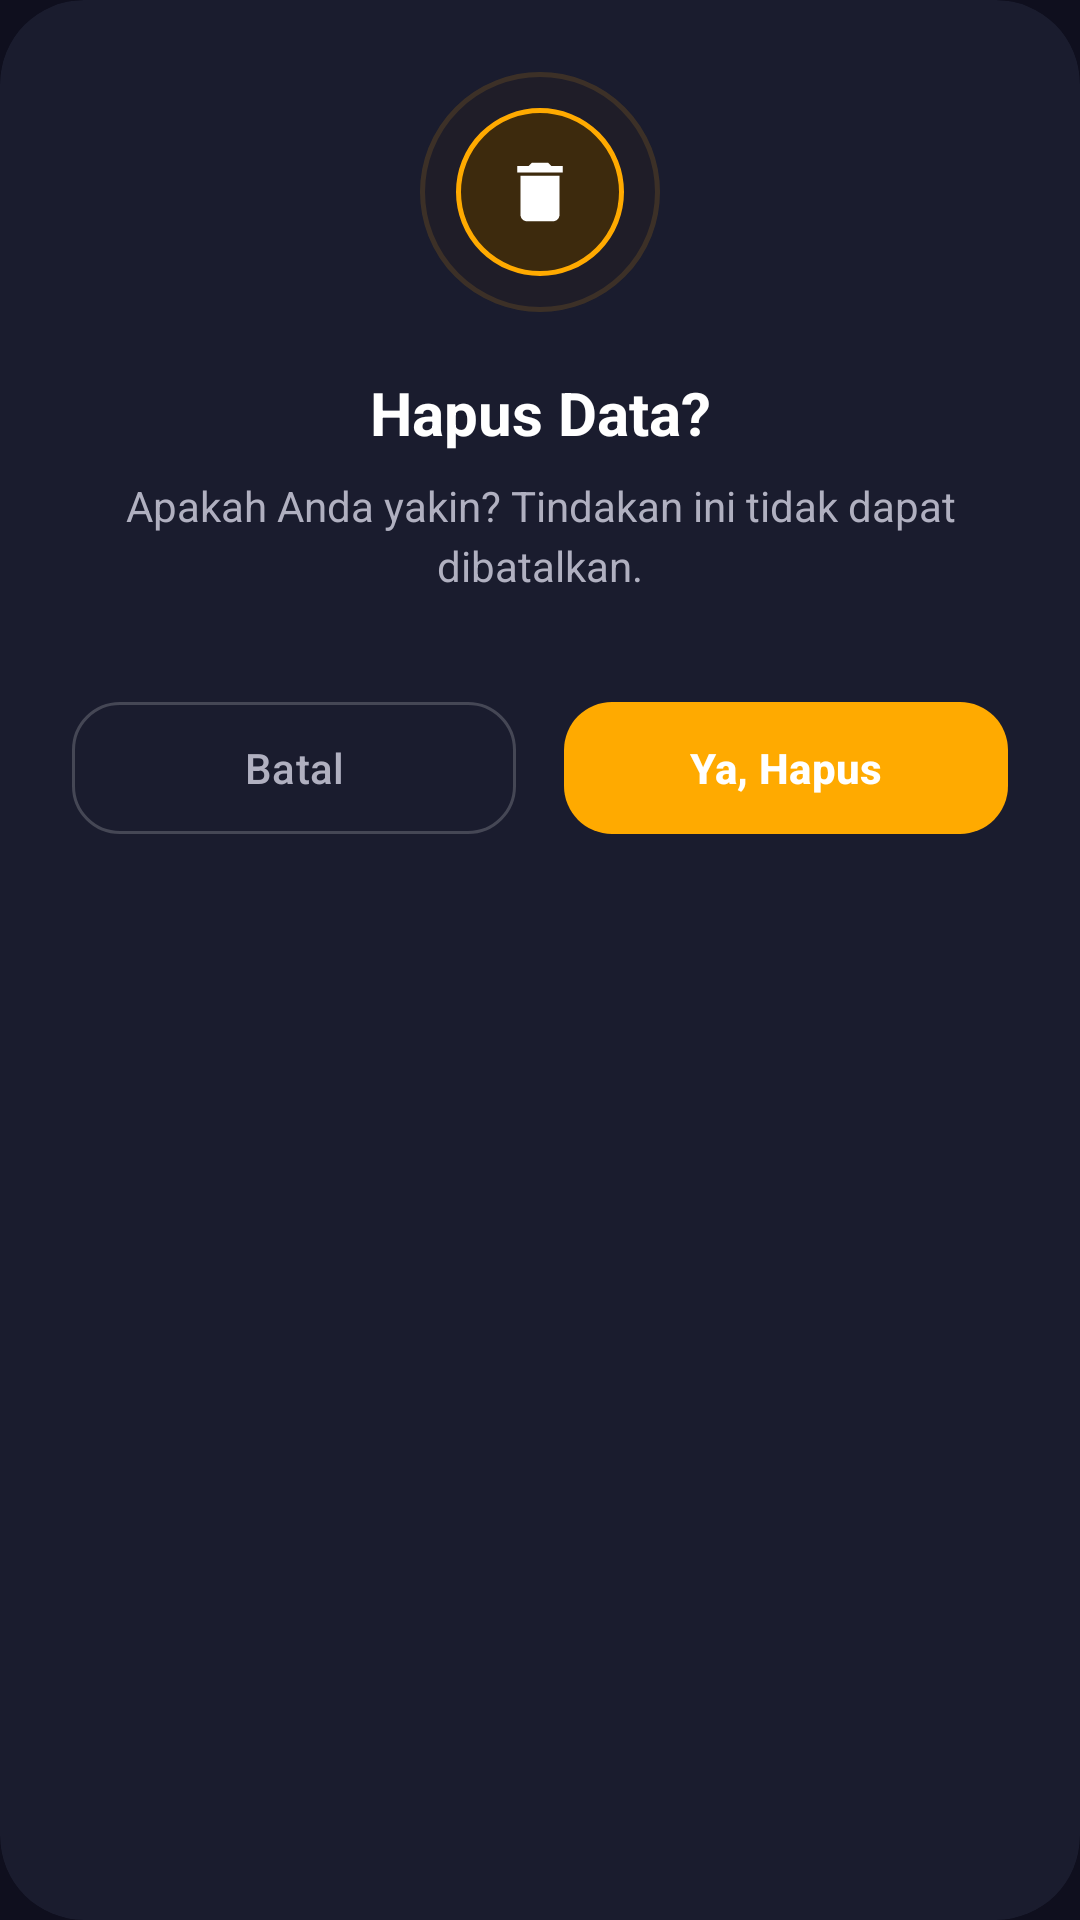

Icons on this 1080px×1920px Android screen, each with its box as BBox(x1, y1, x2, y2):
delete: BBox(517, 162, 563, 222)
